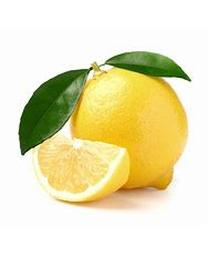lemon: (70, 66, 188, 190), (32, 134, 127, 203)
